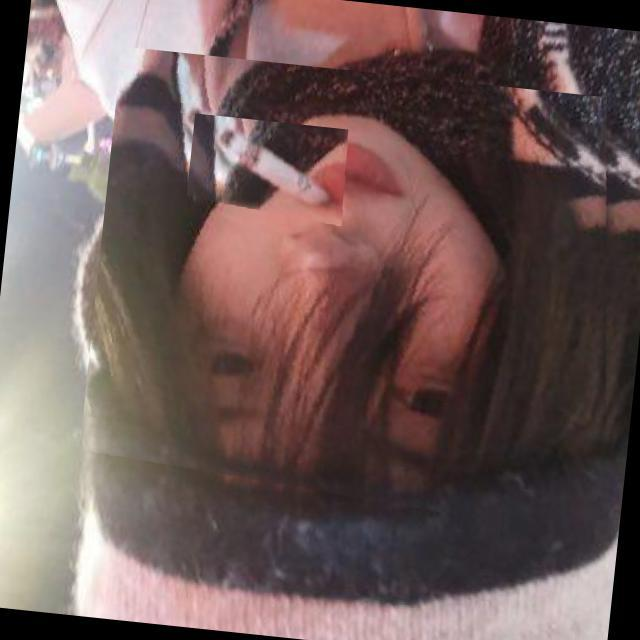cigarette: (185, 114, 352, 227)
